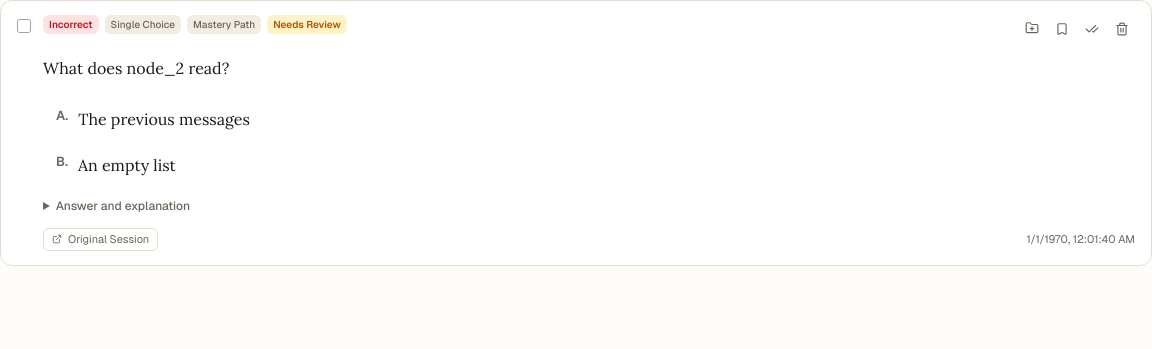
Test: keeps the complete stem and choices visible while hiding answer evidence
This screenshot has width=1152, height=349.
Expected: the element with test id "question-stem" reads "What does node_2 read?", left=43, top=58, right=229, bottom=78
Expected: the text "Your pick" is not shown
Click the heading "Answer and explanation": [123, 206] box left=56, top=198, right=190, bottom=214
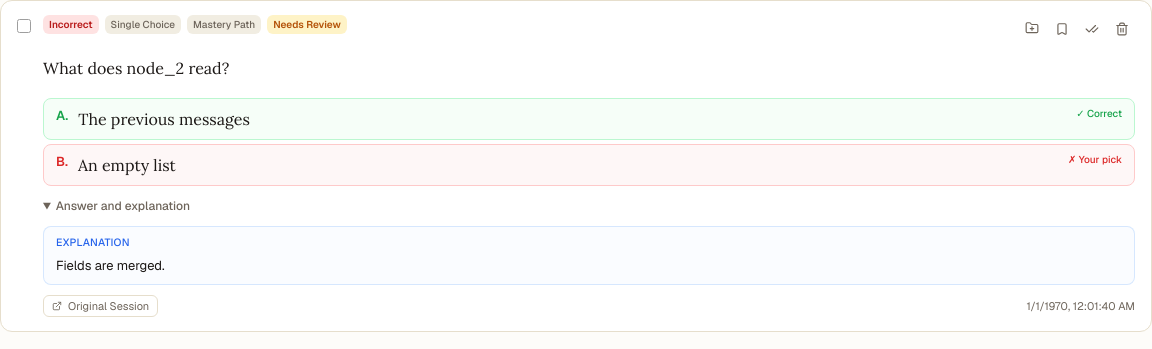
Expected: the text "✗ Your pick" is shown, left=1068, top=152, right=1122, bottom=167
Expected: the text "Fields are merged." is shown, left=56, top=257, right=165, bottom=274
